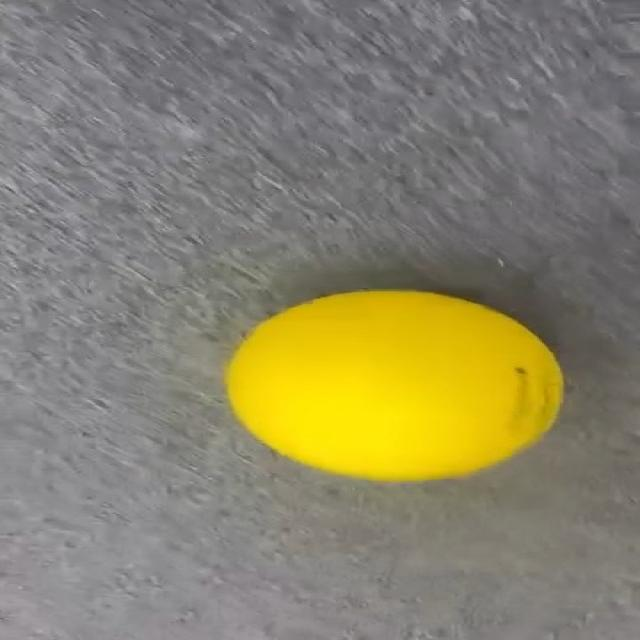Fuels: (226, 290, 562, 481)
